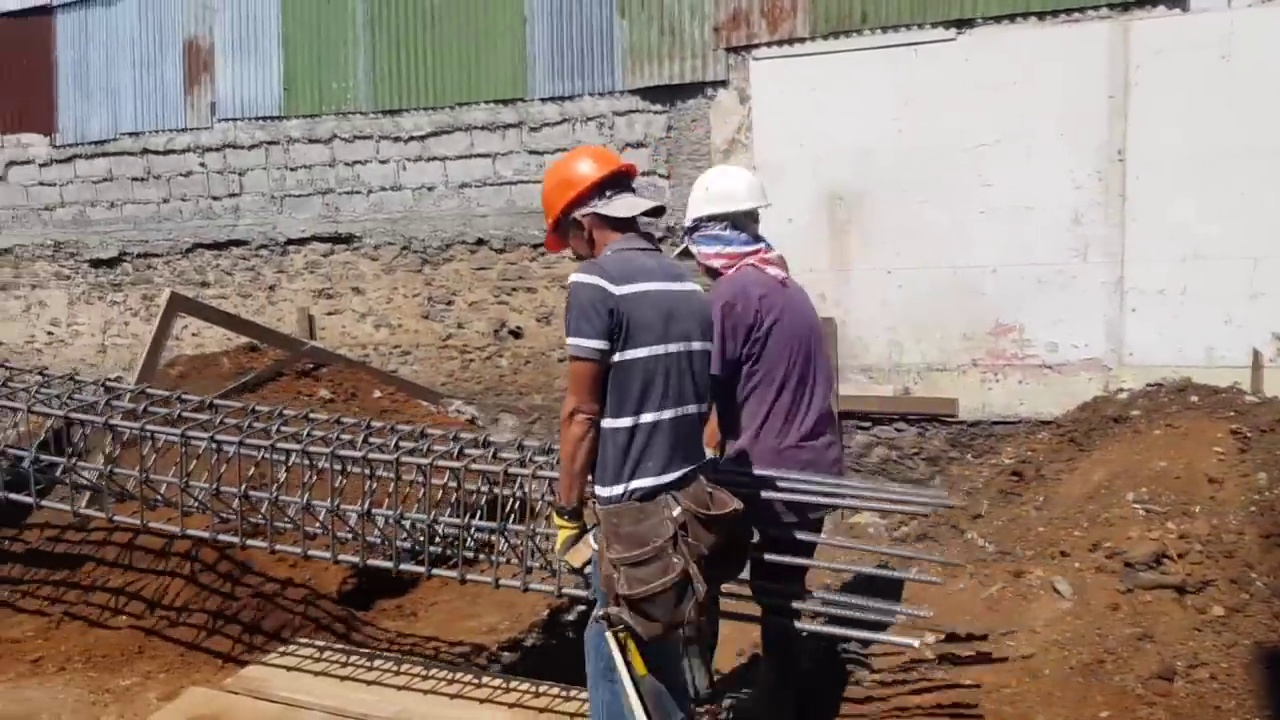helmet: (542, 145, 639, 254), (685, 161, 775, 230)
helmet-on: (543, 142, 661, 265), (682, 161, 773, 273)
person: (538, 152, 733, 713), (683, 160, 844, 719)
